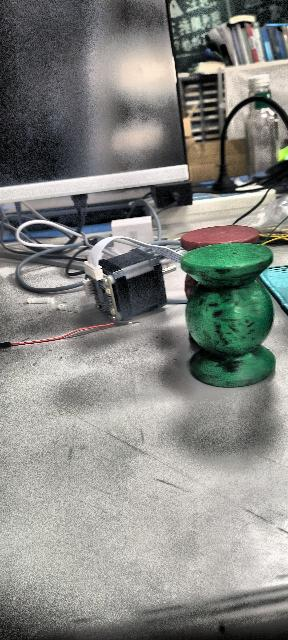green: (180, 241, 276, 387)
red: (178, 223, 262, 298)
